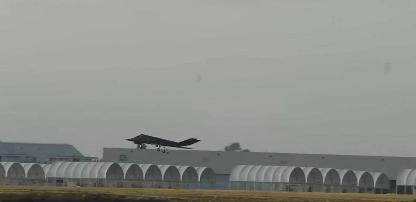E7: (124, 132, 200, 152)
